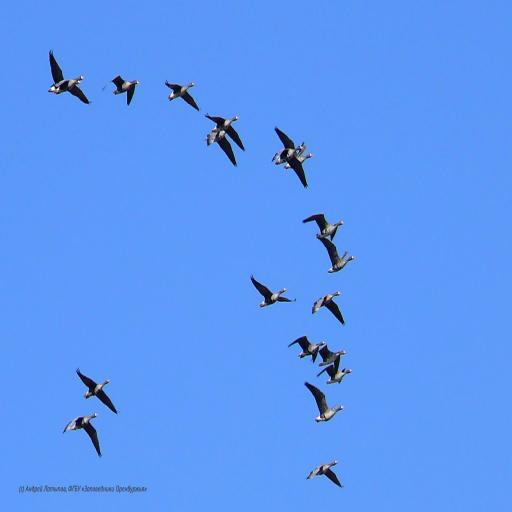birds: (48, 50, 91, 106), (275, 127, 307, 185), (76, 371, 116, 412), (306, 382, 344, 423), (251, 273, 296, 307), (64, 414, 102, 454), (204, 128, 239, 166), (316, 239, 353, 274), (207, 116, 243, 149), (164, 80, 200, 112), (304, 214, 344, 241), (312, 292, 344, 323), (307, 461, 343, 488), (290, 337, 324, 363), (111, 76, 139, 105), (318, 344, 346, 370), (319, 365, 351, 385)
